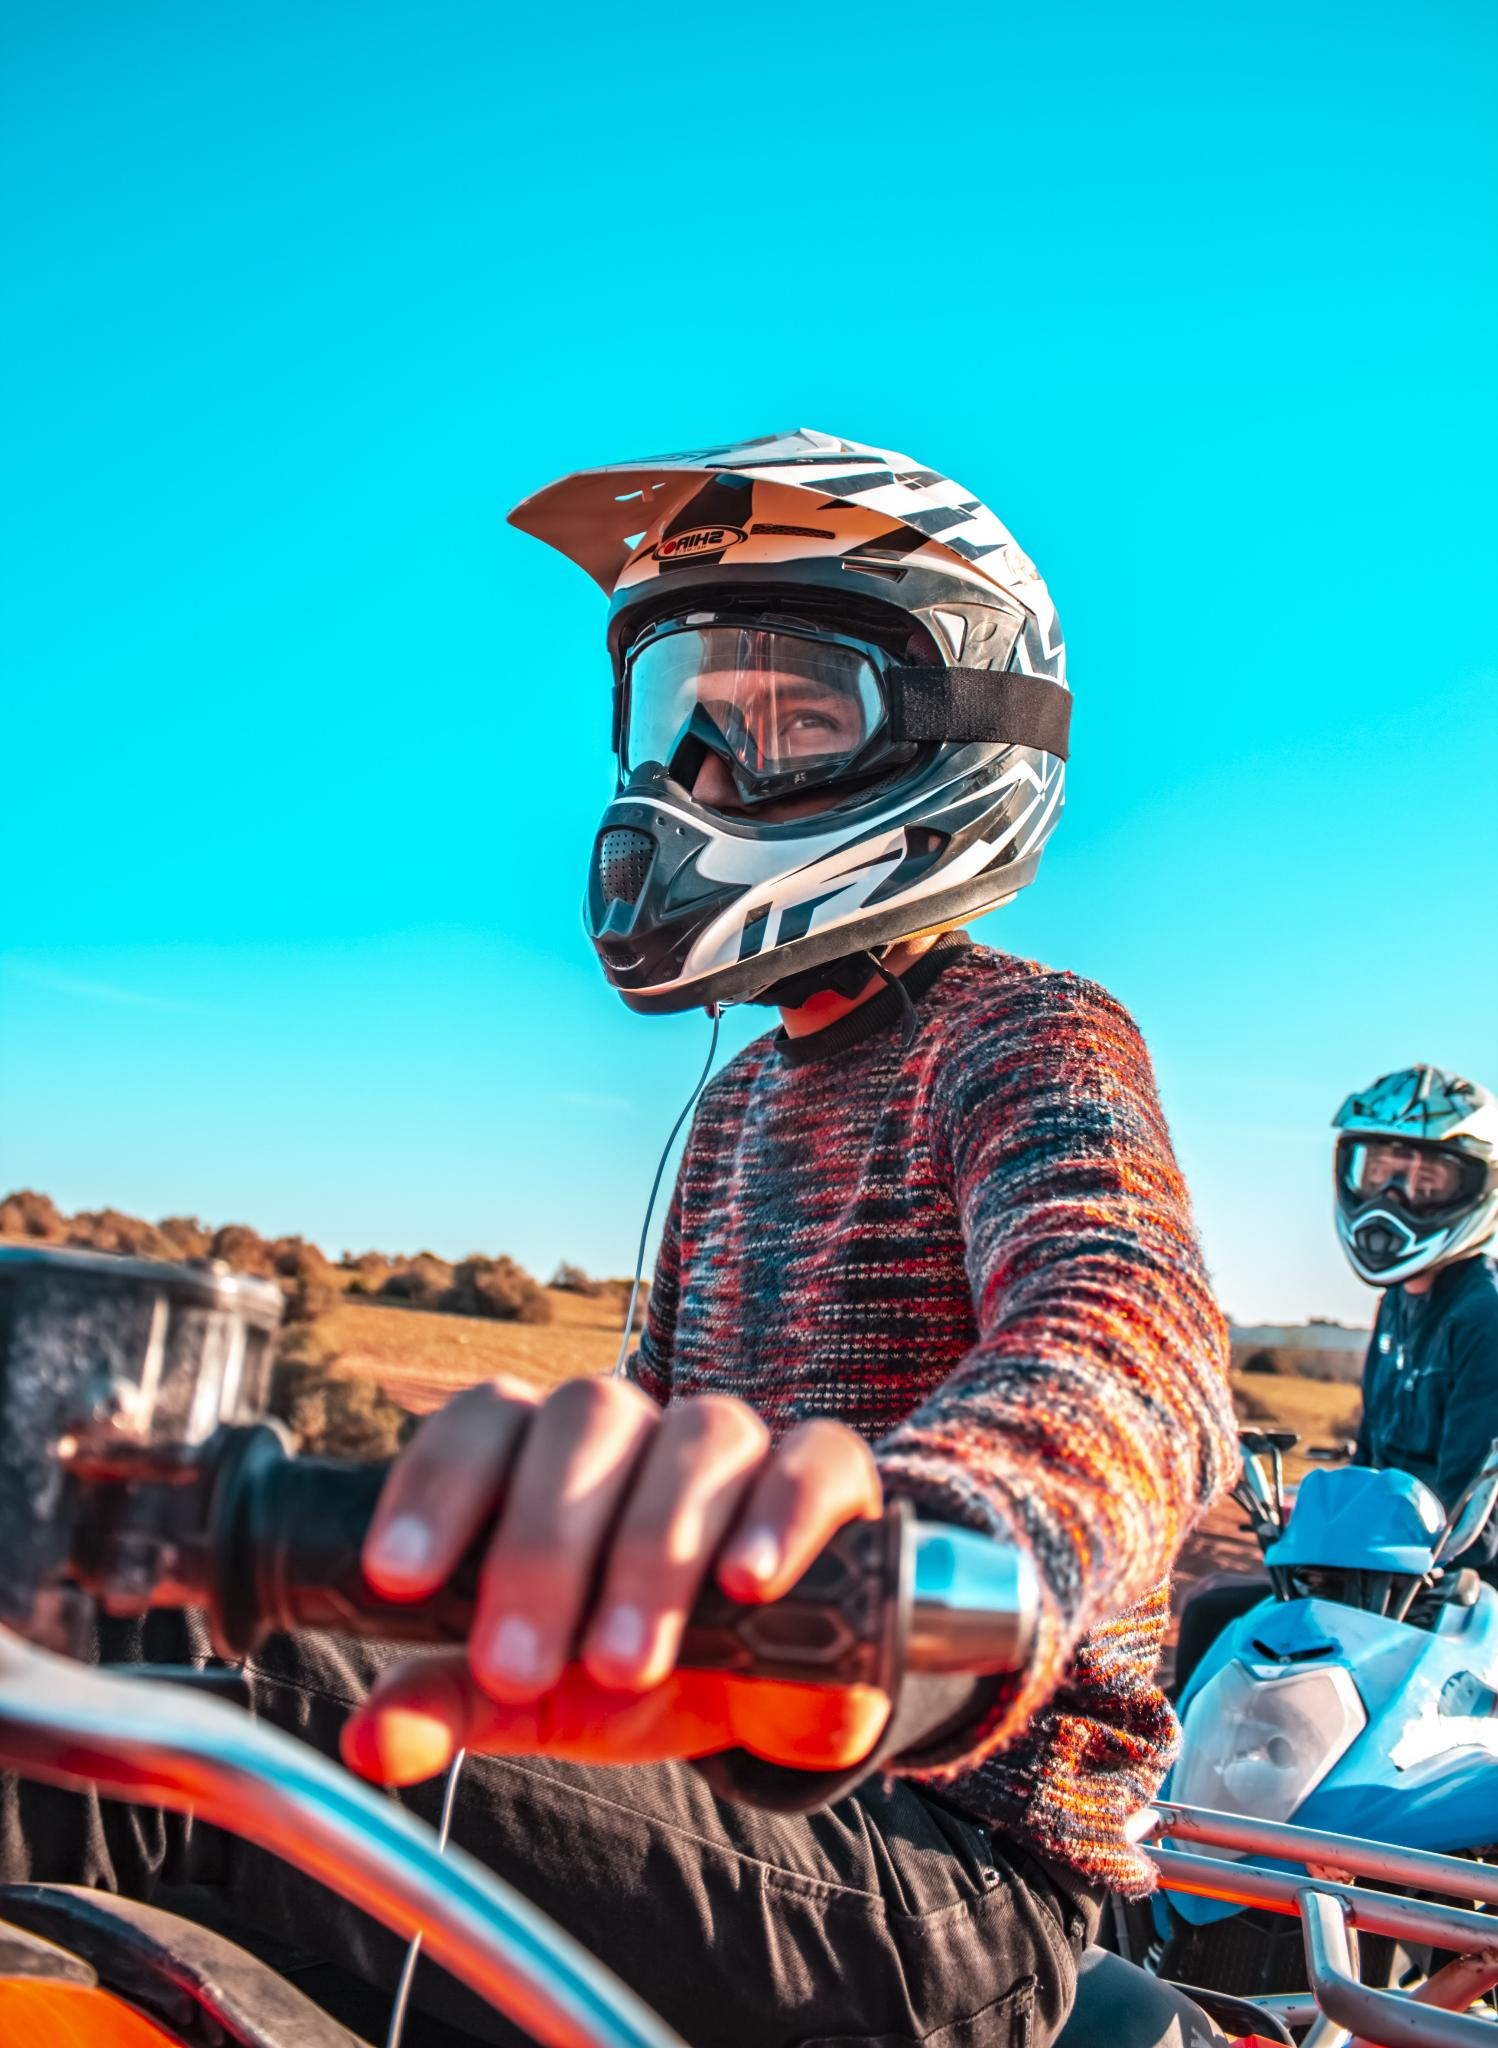Helmet: (509, 437, 1072, 1011)
